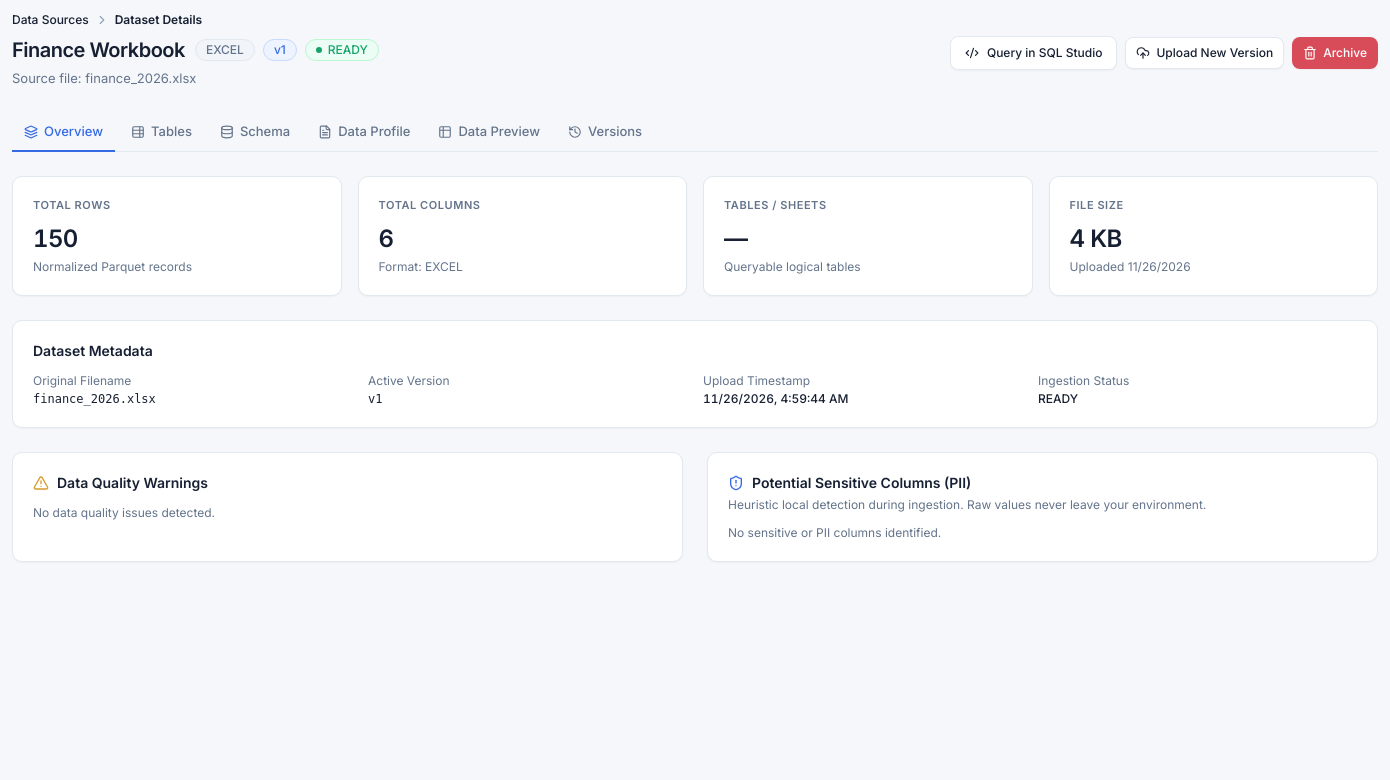
Stage 3 Dataset Detail & SQL Analytics IDE › renders multi-sheet Excel Tables tab and lets users jump straight to sheet preview
expect the heading "Finance Workbook" is shown: met, box [12,36,185,64]
// Open Tables tab and confirm both sheets appear cleanly
Step 1. Click the tab "Tables" → [161, 133], box [119,113,204,152]
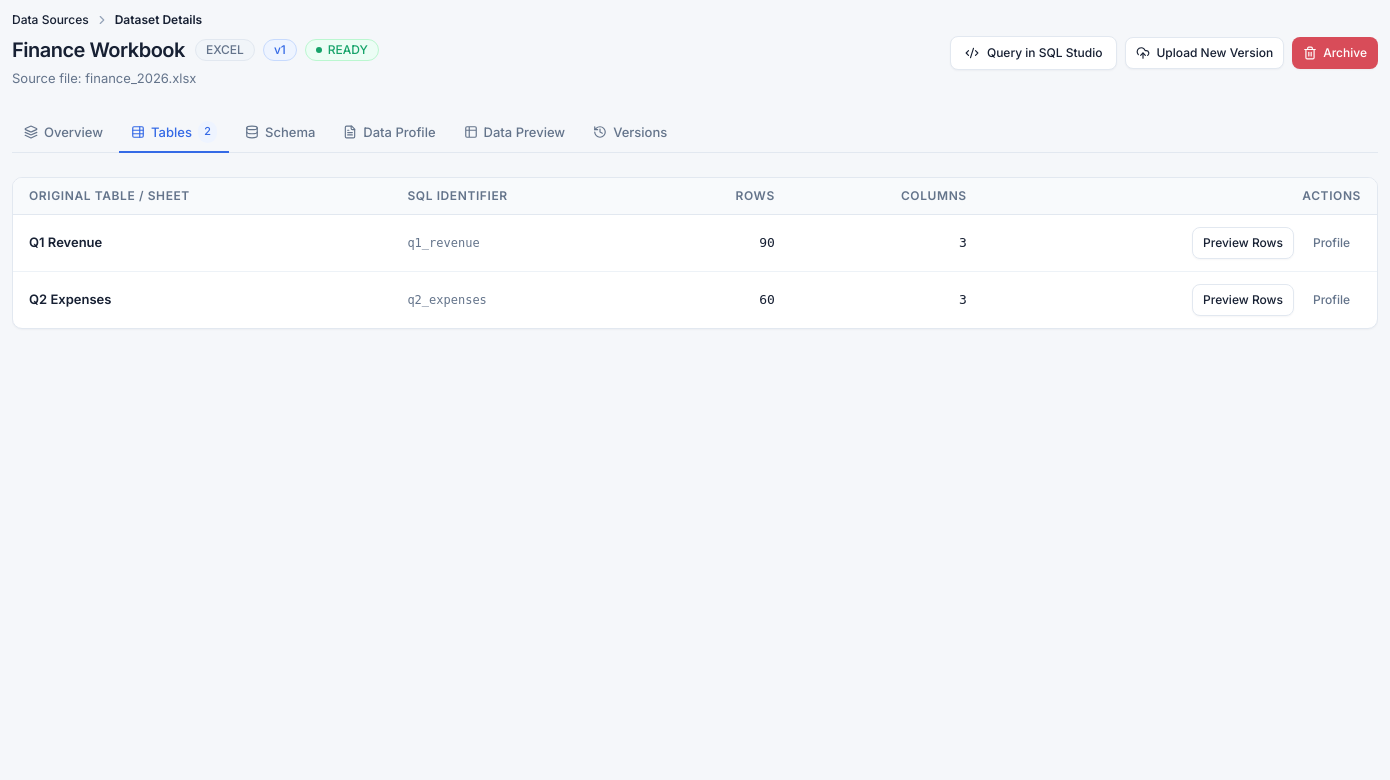
expect the text "Q1 Revenue" is shown: met, box [13,214,391,272]
expect the text "Q2 Expenses" is shown: met, box [13,272,391,328]
// Click Preview Rows on second sheet
Step 2. Click the button "Preview Rows" in the row of "Q2 Expenses" → [1243, 300], box [1192,284,1294,316]
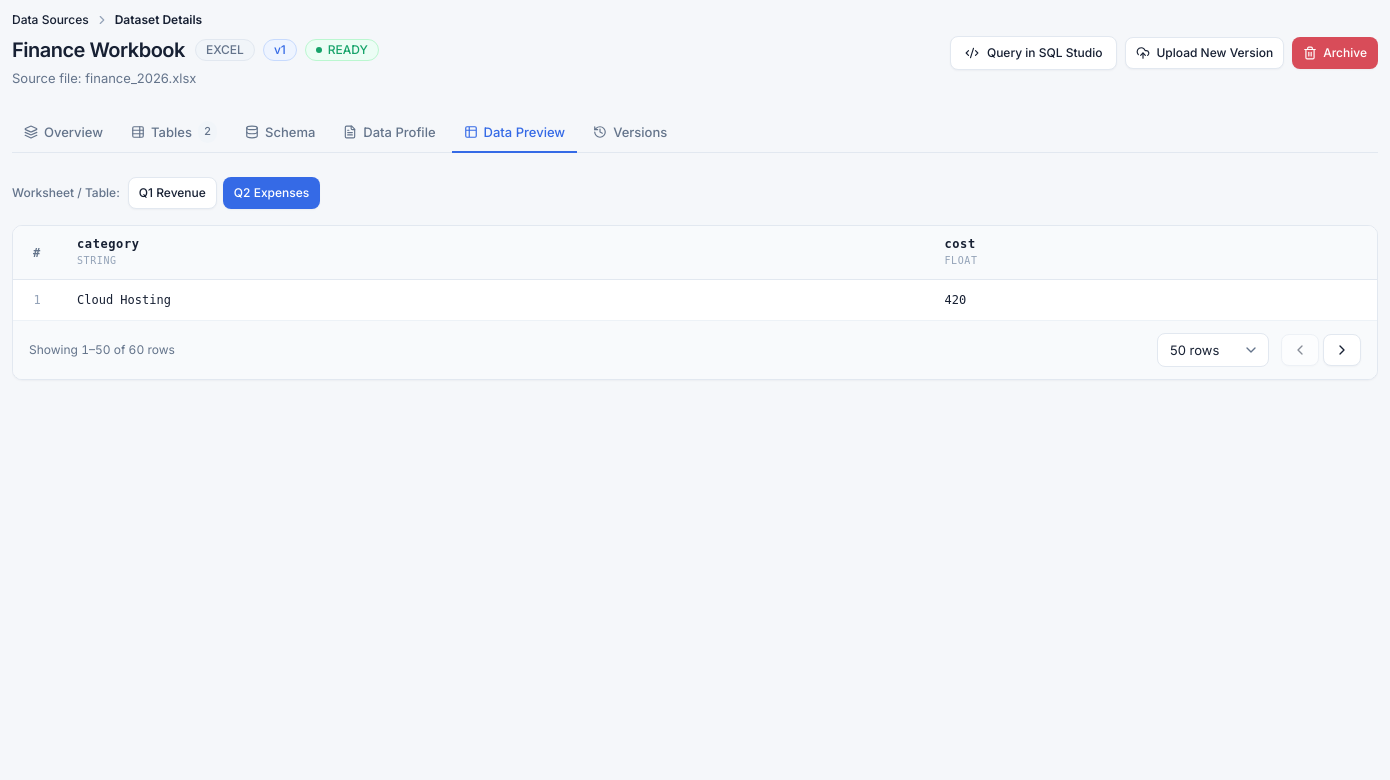
expect the text "Cloud Hosting" is shown: met, box [61,280,928,320]
